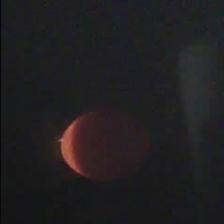fertile: (57, 108, 159, 182)
